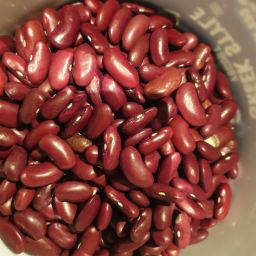Pinto Beans (kidney beans): (4, 5, 256, 256)
